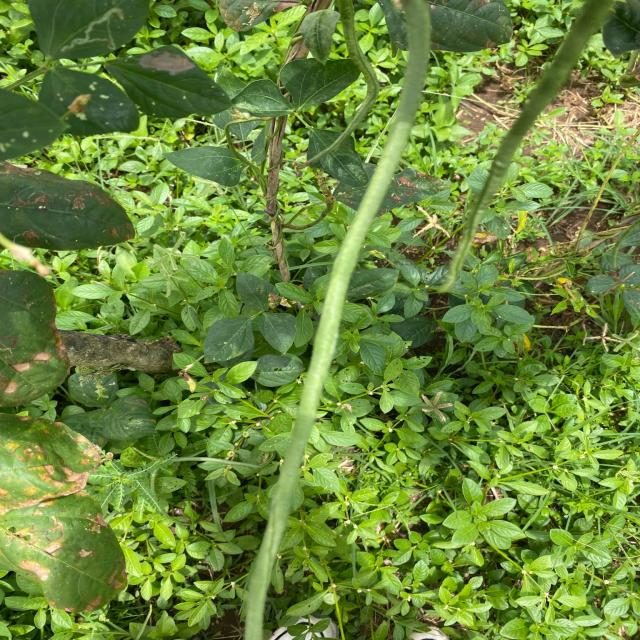10: (257, 0, 430, 575), (443, 0, 616, 289)
sitaw-aphid-high: (28, 0, 150, 66), (164, 146, 259, 187), (204, 317, 254, 367), (258, 310, 314, 354), (232, 79, 292, 118), (236, 271, 280, 312)
sitaw-aphid-low: (0, 493, 127, 612), (0, 161, 135, 250), (0, 414, 102, 524), (0, 271, 70, 408), (106, 45, 230, 118), (39, 65, 139, 136), (427, 0, 512, 52), (280, 58, 360, 110), (376, 0, 408, 50)
